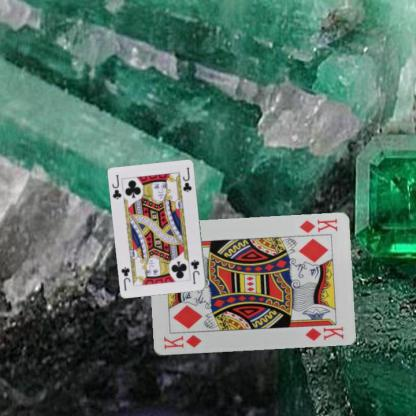Jc: (188, 257, 201, 286), (110, 172, 122, 201)
Kd: (296, 216, 338, 235), (161, 332, 202, 351)
